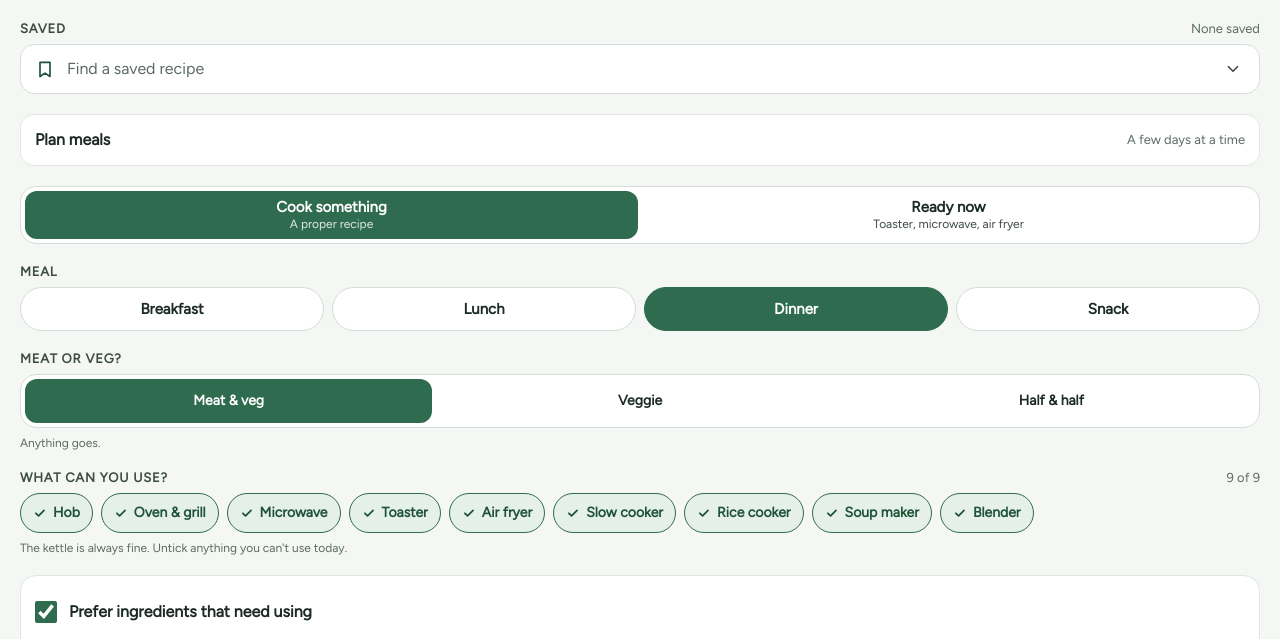
Scenario: no ideas from the model is the friendly message with Try again
The width and height of the screenshot is (1280, 639).
Click the radio button labelled "Ready now Toaster, microwave, air fryer": (948, 214) [642, 190, 1255, 238]
(page scrolled)
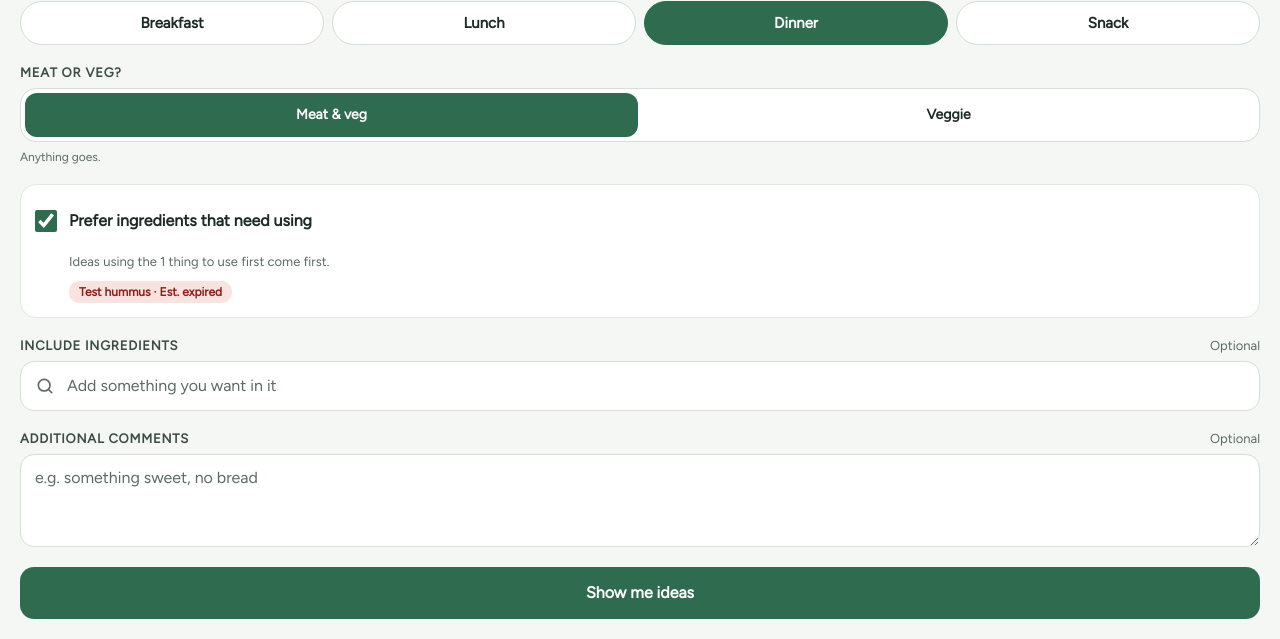
Click the button "Show me ideas": (640, 593) [20, 567, 1260, 619]
(page scrolled)
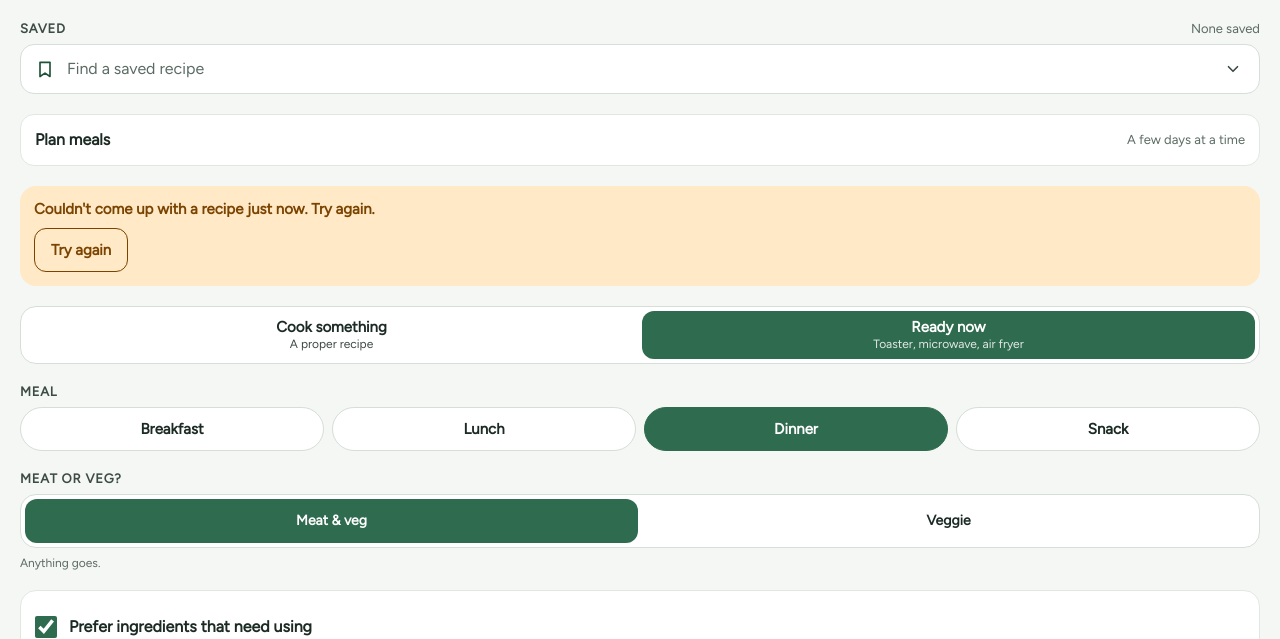
Result: the message shows "Couldn't come up with a recipe just now." at [34, 200, 375, 218]
Result: the button "Try again" is shown at [34, 228, 128, 272]
